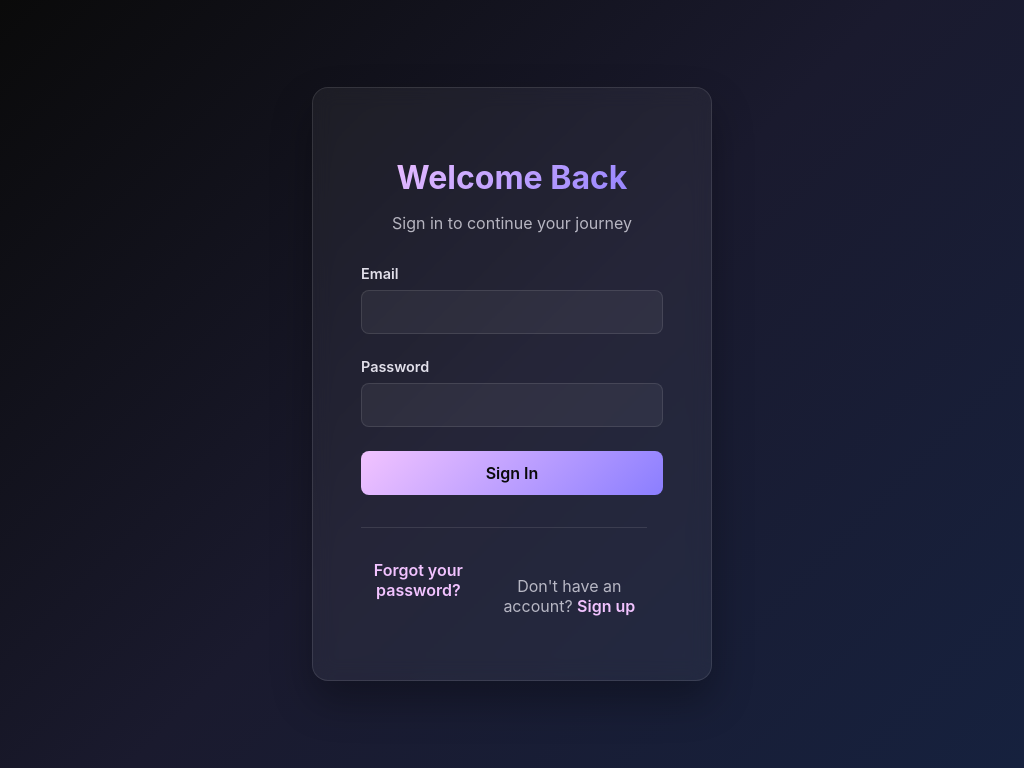
Test: LoginPage › requires both email and password
Click the button "Sign In". click: (512, 473)
box: x1=361 y1=451 x2=663 y2=495
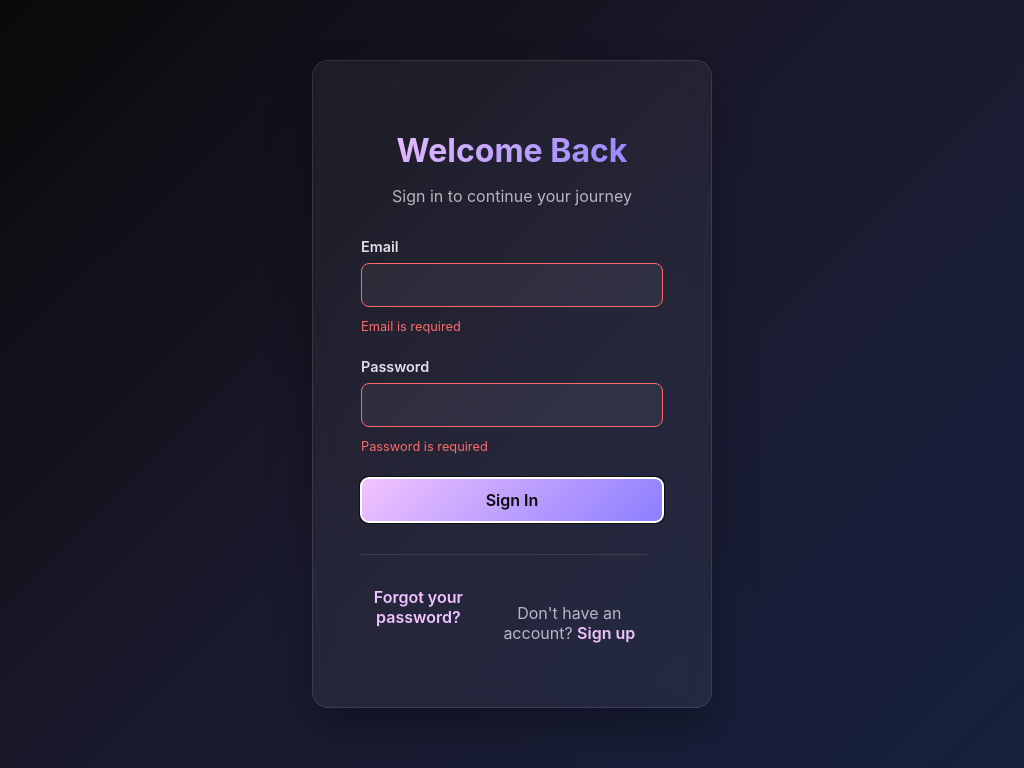
Result: the text "Email is required" is shown at x1=361 y1=319 x2=461 y2=334
Result: the text "Password is required" is shown at x1=361 y1=439 x2=488 y2=454
